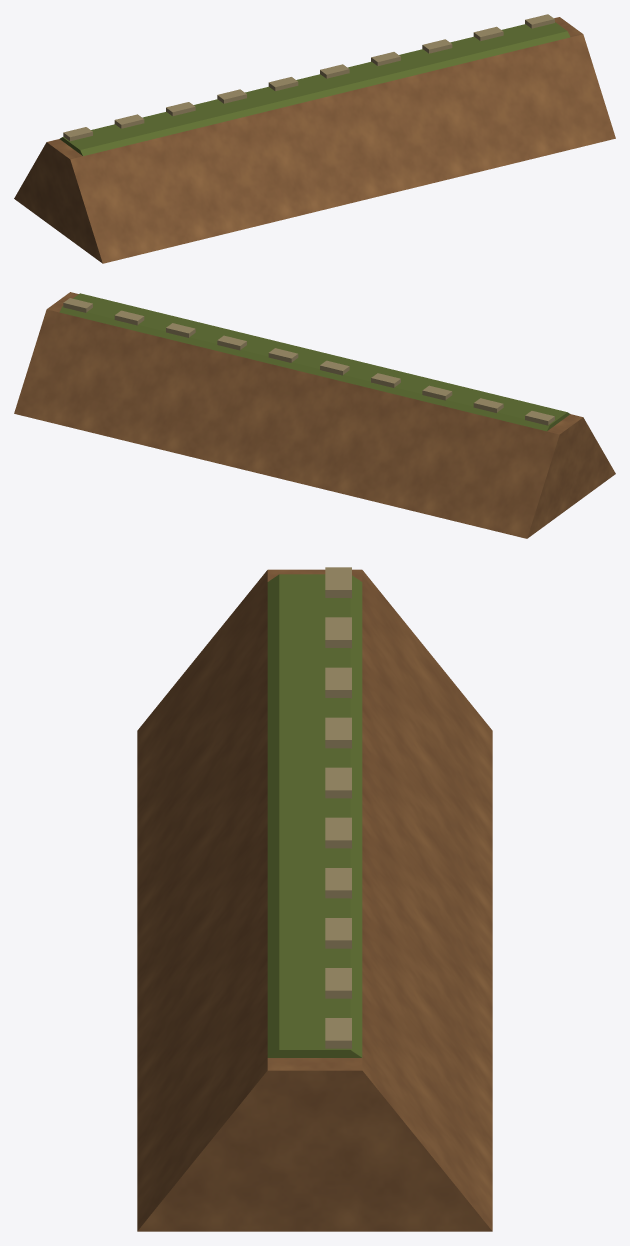
File: earth_bund.glb
3 views of the same model, one above another, from view 1: azimuth 30°, elevation 25°; view 2: azimuth 150°, elevation 25°; view 3: azimuth 270°, elevation 25° (orthographic). The views are drawn at different scales.
Visible parts, largest first — view 1: Bund; view 2: Bund; view 3: Bund.
Part boxes in pixels (<box>): Bund: <box>14,14,615,263</box>; Bund: <box>14,292,615,538</box>; Bund: <box>137,567,492,1231</box>.
Bounding box in the file's own units: 20 × 3.3 × 6.
3 materials, 1 textured.
